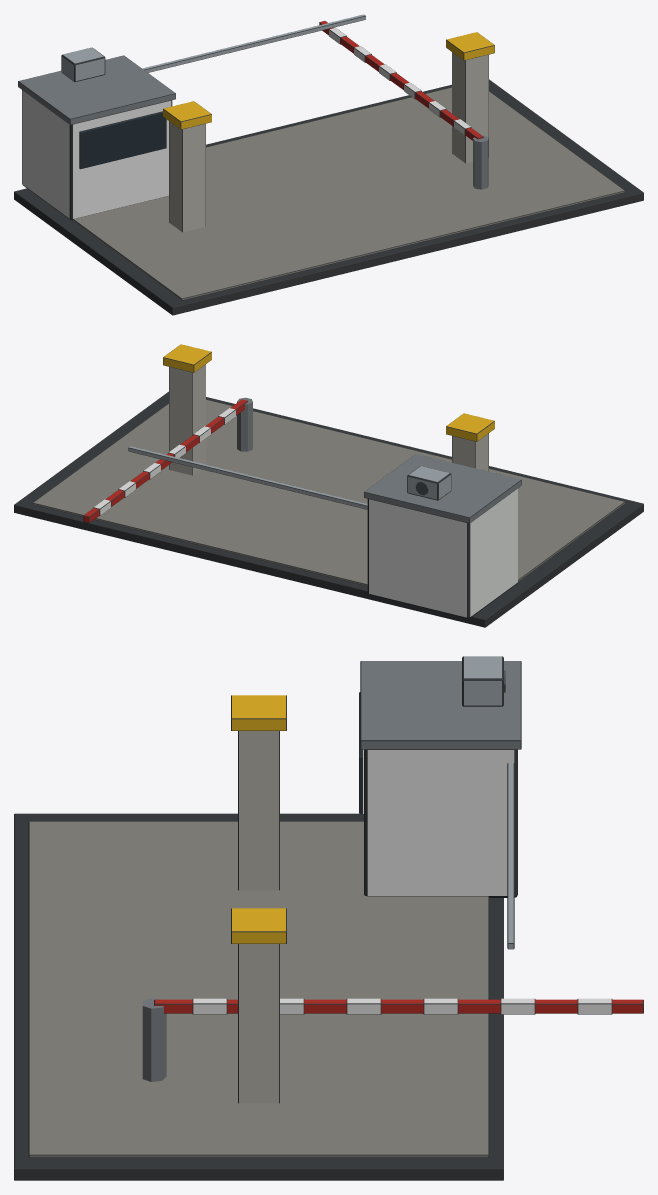
Rendered from prp_security_gate.glb.
3 renders of one model, top to bottom at view 1: azimuth 30°, elevation 25°; view 2: azimuth 150°, elevation 25°; view 3: azimuth 270°, elevation 25°, orthographic. The views are drawn at different scales.
Visible parts, largest first — view 1: prp_security_gate; view 2: prp_security_gate; view 3: prp_security_gate.
Part boxes in pixels (box(x1,y1,x2,y2)): prp_security_gate: box(14, 14, 643, 315); prp_security_gate: box(14, 344, 643, 627); prp_security_gate: box(14, 656, 643, 1180).
Size of the model in its own units: 12 by 3.25 by 9.
